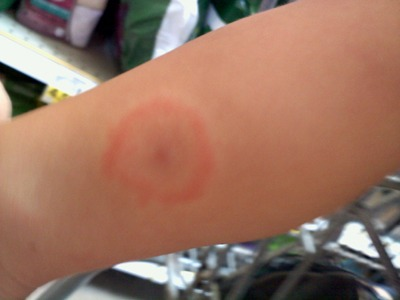Ringworm: (98, 96, 221, 208)
